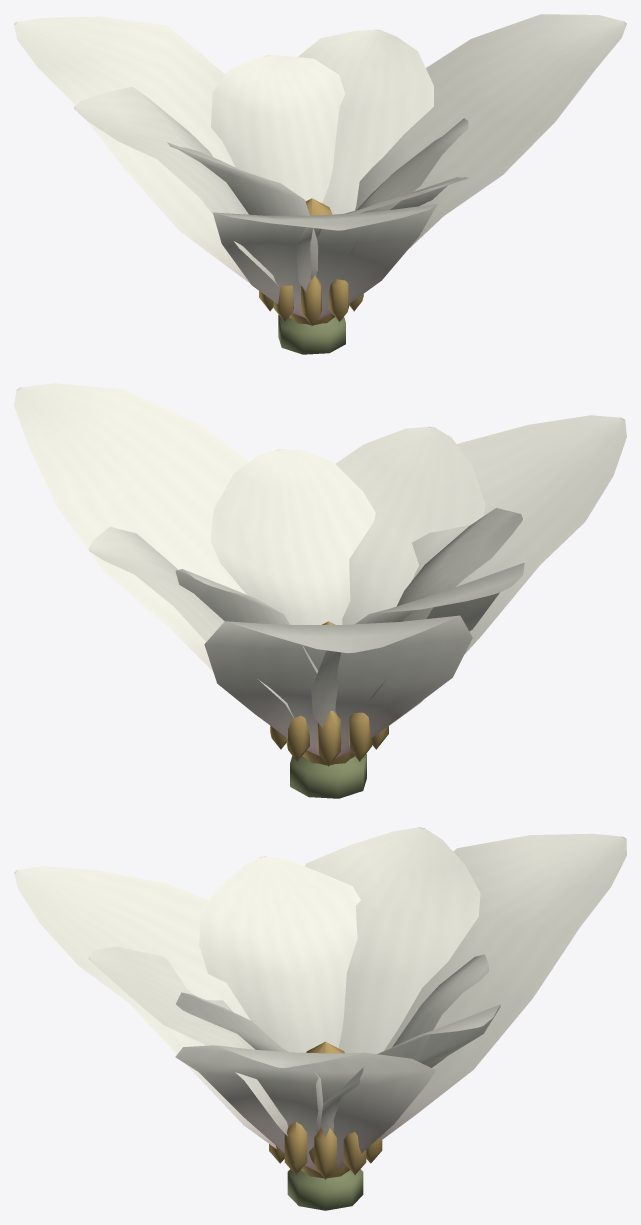
Rendered from magnolia-blossom.glb.
3 views of the same model, one above another, from view 1: azimuth 30°, elevation 25°; view 2: azimuth 150°, elevation 25°; view 3: azimuth 270°, elevation 25° (orthographic). The views are drawn at different scales.
Parts seen in each view (by area): view 1: Magnolia_Blossom; view 2: Magnolia_Blossom; view 3: Magnolia_Blossom.
Part boxes in pixels (<box>): Magnolia_Blossom: <box>14,14,626,354</box>; Magnolia_Blossom: <box>14,383,626,798</box>; Magnolia_Blossom: <box>14,827,626,1210</box>.
Bounding box in the file's own units: 0.2639 × 0.1404 × 0.2665.
Materials: 3 (1 with a texture image).
